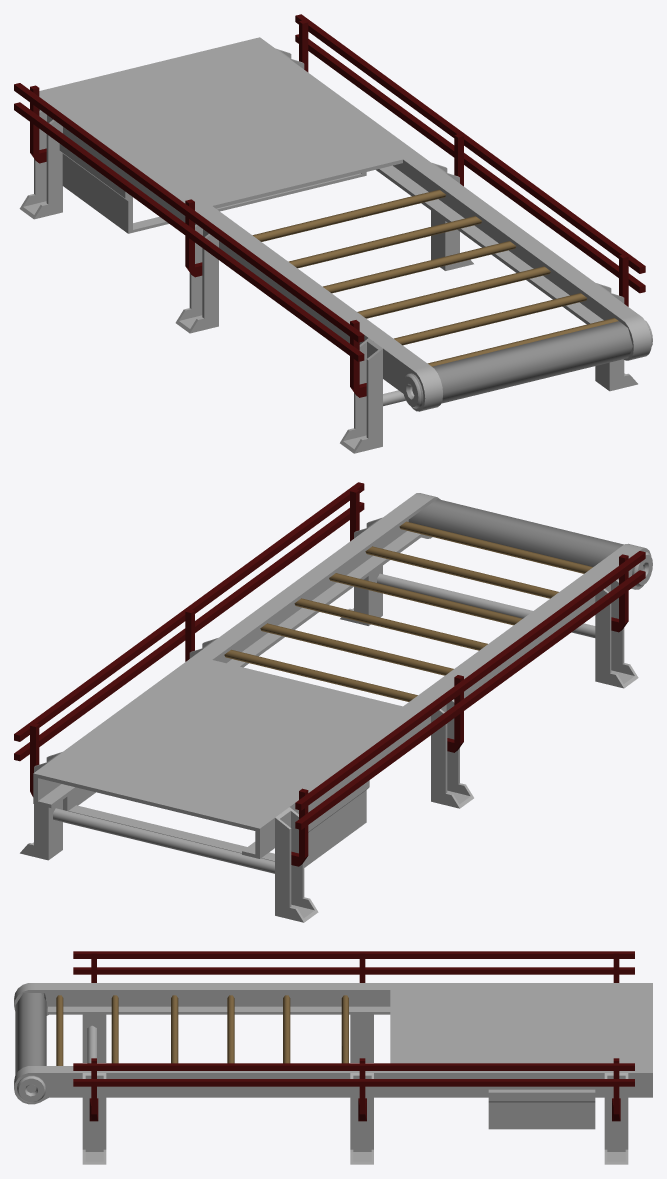
File: SM_ProdLine_transporter_mid_b.FBX
The picture shows the model from 3 angles, top to bottom: view 1: azimuth 30°, elevation 25°; view 2: azimuth 150°, elevation 25°; view 3: azimuth 270°, elevation 25°; orthographic projection. The views are drawn at different scales.
Parts seen in each view (by area): view 1: SM_ProdLine_transporter_mid_b_LOD0; view 2: SM_ProdLine_transporter_mid_b_LOD0; view 3: SM_ProdLine_transporter_mid_b_LOD0.
Boxes of the visible parts, x1,y1,x2,y2 form: SM_ProdLine_transporter_mid_b_LOD0: (14,14,652,453); SM_ProdLine_transporter_mid_b_LOD0: (14,482,652,922); SM_ProdLine_transporter_mid_b_LOD0: (14,951,652,1164).
Size of what is drawn, in the model's own units: 151 by 356 by 62.67.
